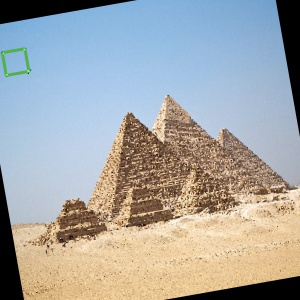square: (1, 45, 36, 79)
